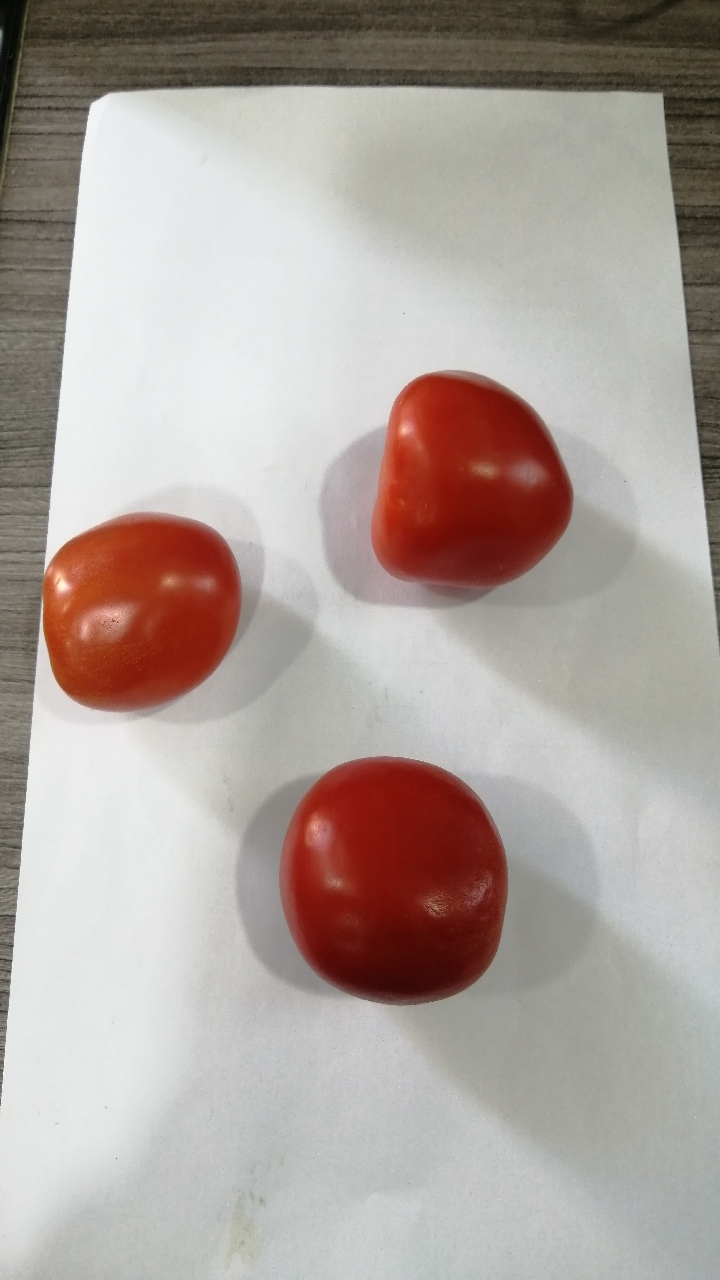tomateRojo: (338, 348, 586, 628), (277, 740, 517, 1012), (34, 486, 252, 728)
